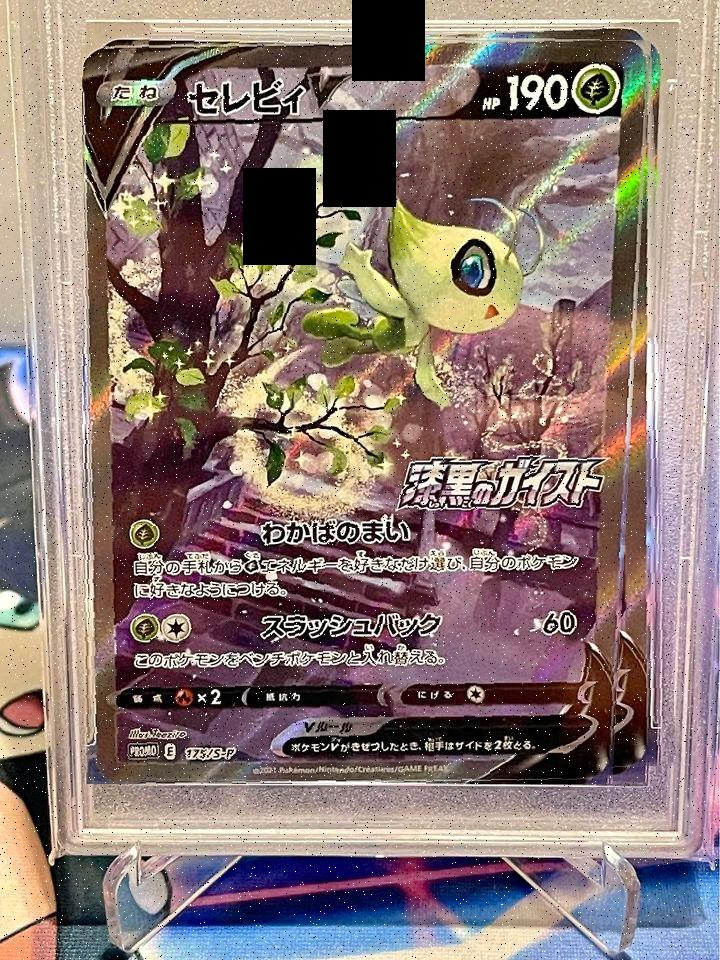card: (82, 40, 650, 784)
